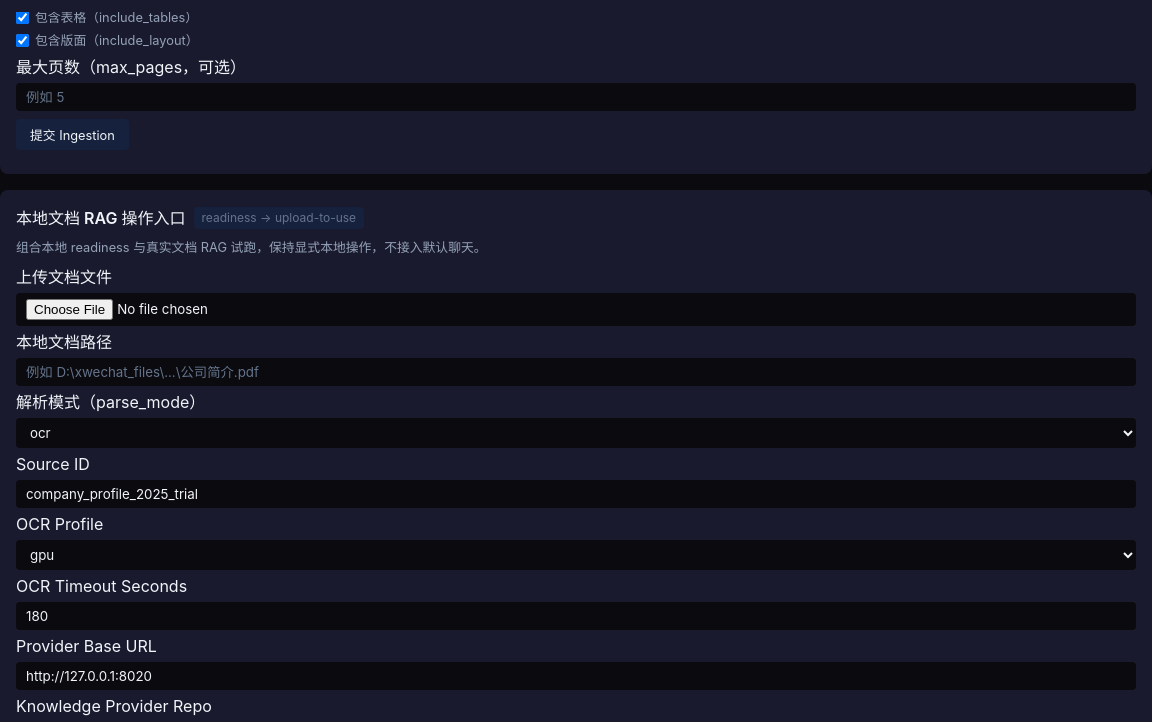
Test: CapabilityProviderDiagnosticsPanel › runs local document rag trial with document path and displays upload report
Step 1. Type "D:\\docs\\company.pdf" into the field with test id "document-rag-path" → (576, 372), box [16,358,1136,386]
(page scrolled)
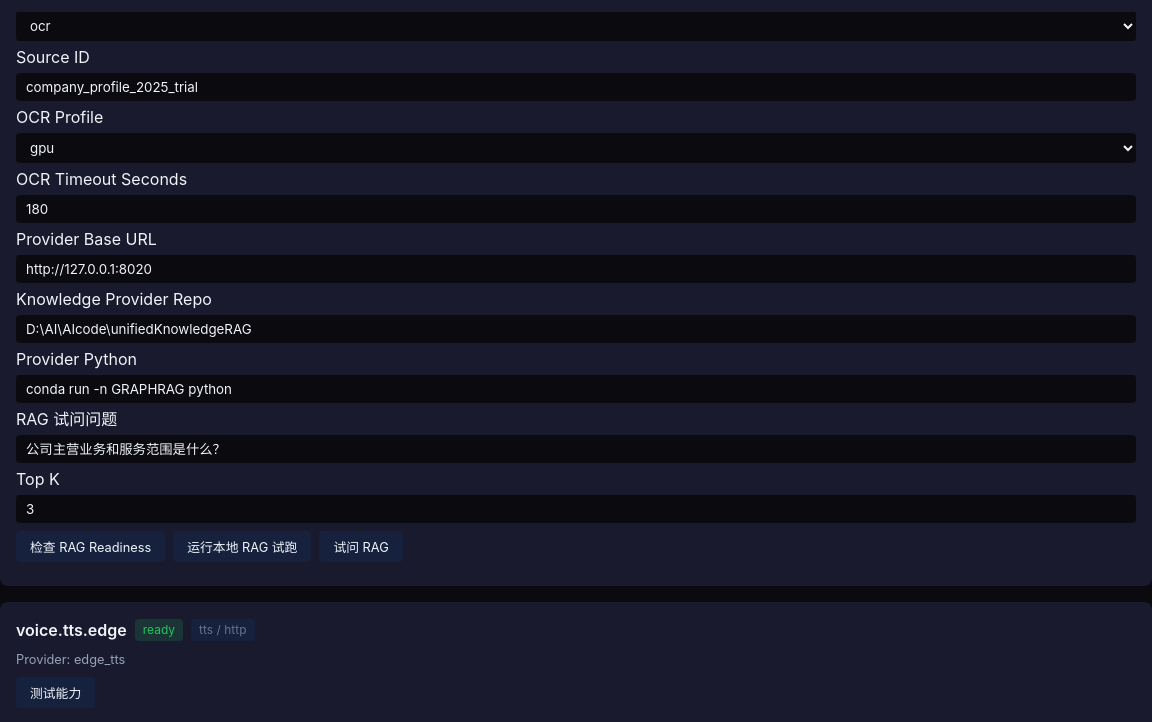
Step 2. Click the button with test id "document-rag-run-trial" → (242, 546), box [173,531,312,562]
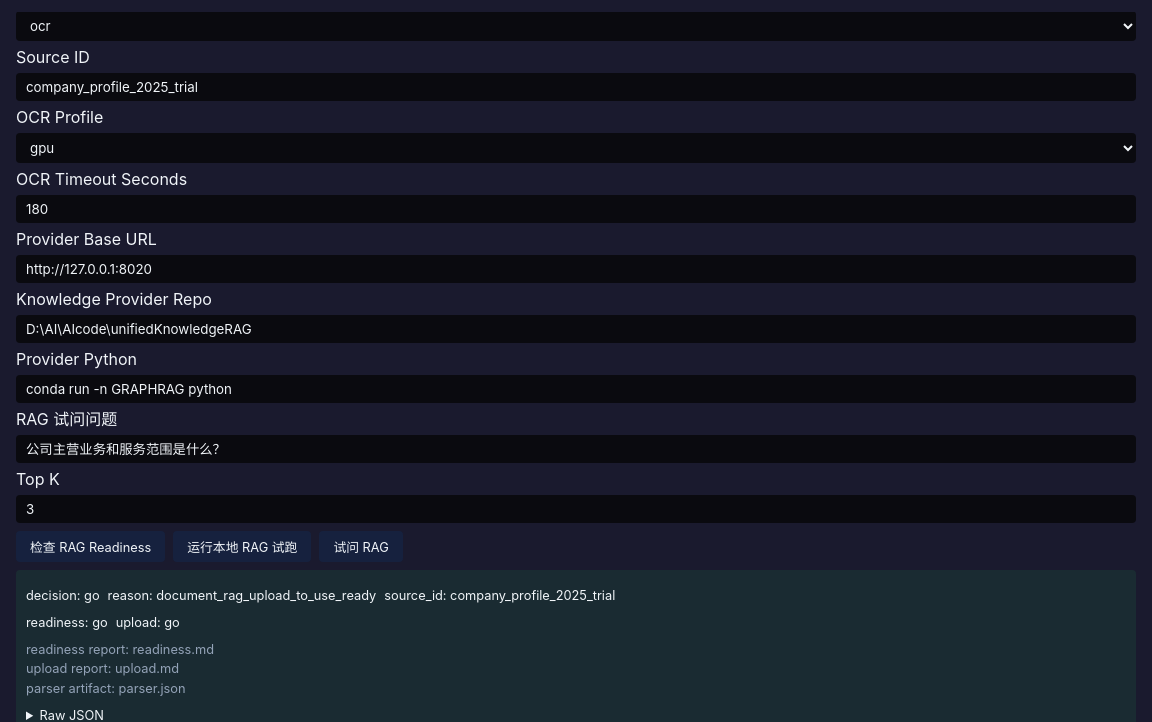
Expected: the text "upload: go" is shown, [116,613,180,632]
Expected: the text "upload report: upload.md" is shown, [26,661,179,676]
Expected: the text "parser artifact: parser.json" is shown, [26,680,186,696]
